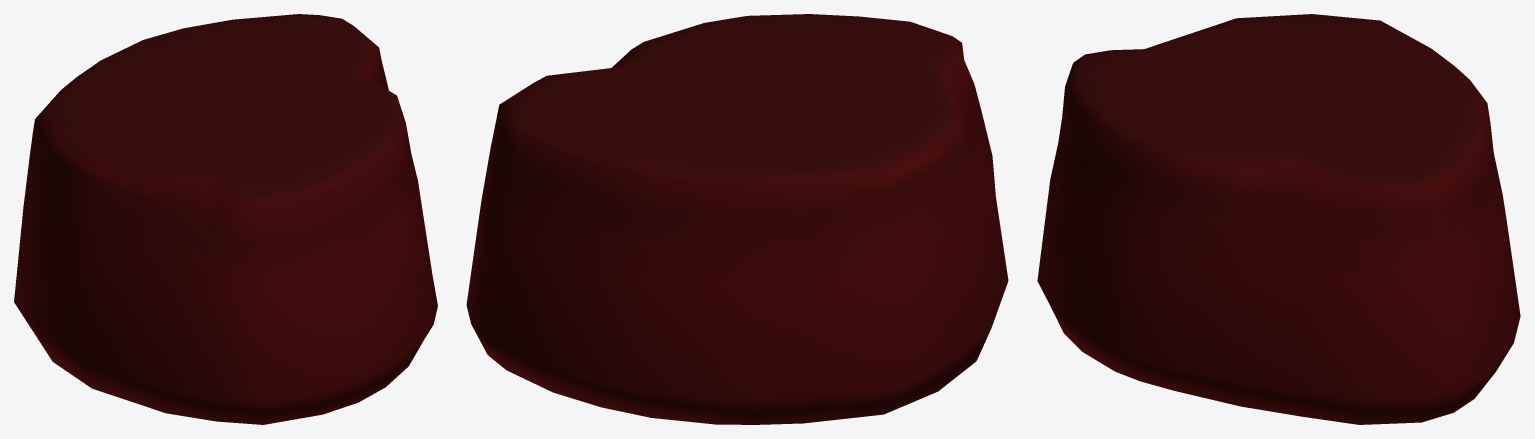
Rendered from geology-landforms-alienplateutiny_v1.fbx.
3 views of the same model, side by side, from view 1: azimuth 30°, elevation 25°; view 2: azimuth 150°, elevation 25°; view 3: azimuth 270°, elevation 25° (orthographic). The views are drawn at different scales.
Visible parts, largest first — view 1: AlienPlateuTiny_v1; view 2: AlienPlateuTiny_v1; view 3: AlienPlateuTiny_v1.
Boxes of the visible parts, x1=… form: AlienPlateuTiny_v1: x1=14, y1=14, x2=437, y2=424; AlienPlateuTiny_v1: x1=466, y1=14, x2=1008, y2=424; AlienPlateuTiny_v1: x1=1037, y1=14, x2=1520, y2=424.
Bounding box in the file's own units: 22.58 × 12.36 × 23.33.
